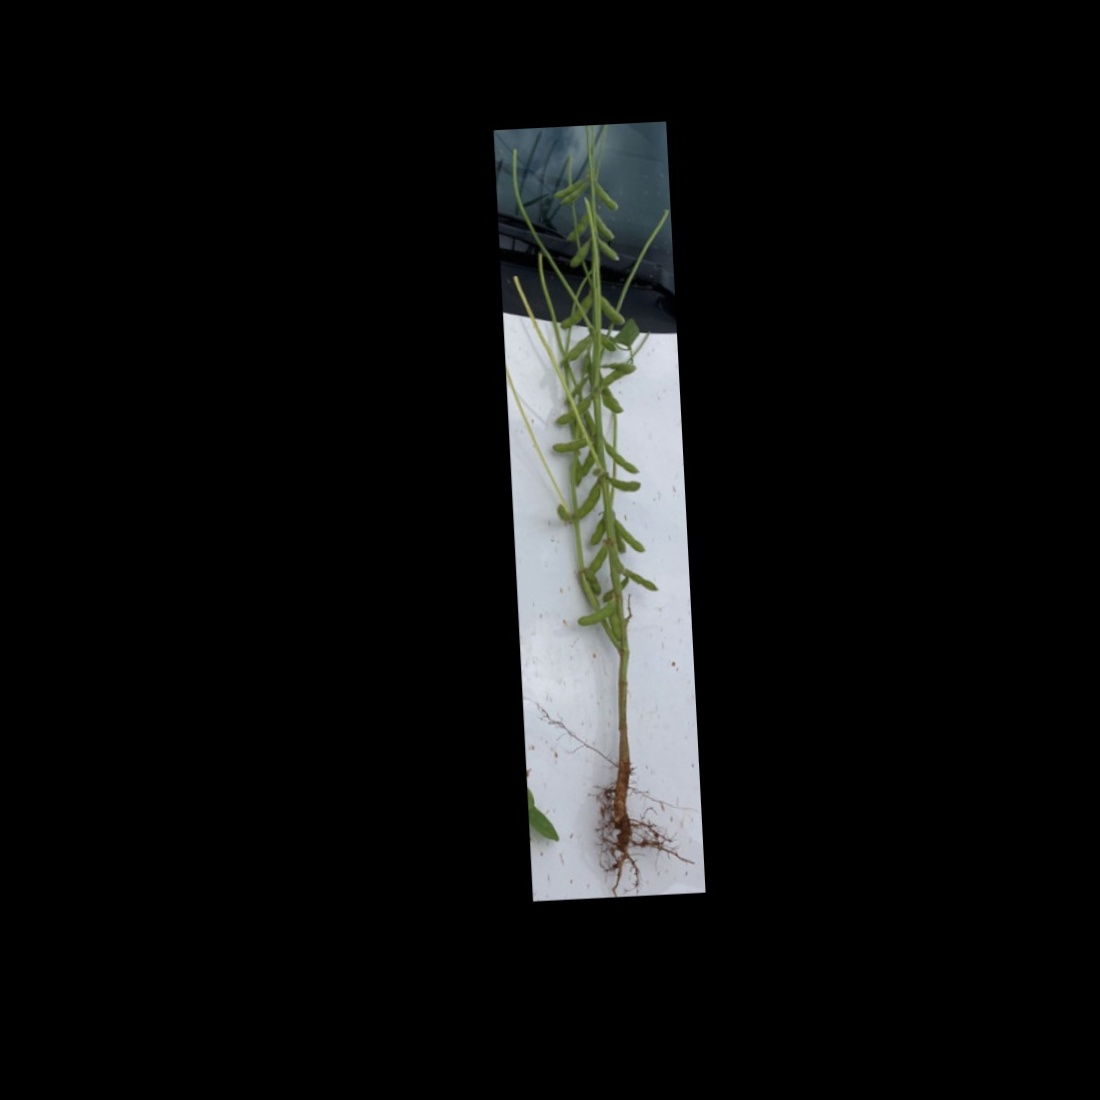pod: (557, 289, 595, 332), (549, 394, 596, 428), (574, 475, 606, 521), (611, 517, 648, 556), (613, 566, 660, 593), (602, 442, 639, 476), (556, 332, 593, 366), (574, 597, 615, 627), (550, 173, 593, 200), (577, 543, 611, 577), (566, 234, 596, 272), (599, 293, 628, 329), (555, 181, 593, 208), (593, 174, 618, 214), (563, 213, 590, 243), (607, 472, 644, 495), (590, 211, 615, 242), (550, 438, 592, 456), (581, 566, 603, 597), (596, 236, 623, 262)
soy: (516, 144, 680, 857)
